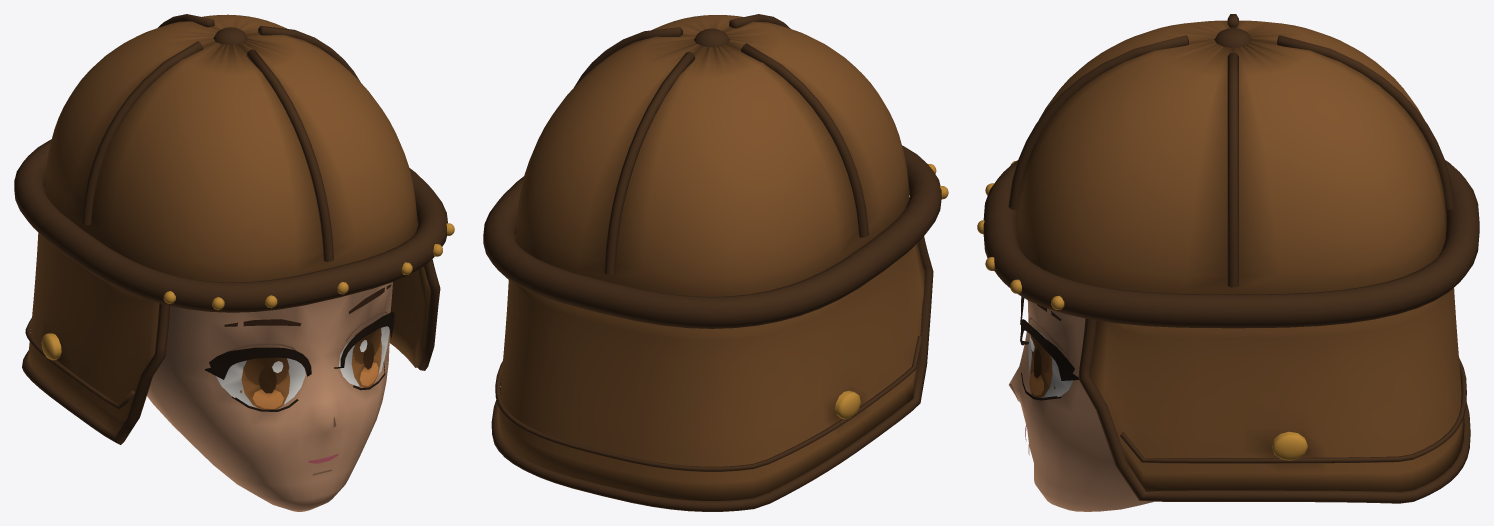
Rendered from h_cap_f.glb.
The picture shows the model from 3 angles, left to right: view 1: azimuth 30°, elevation 25°; view 2: azimuth 150°, elevation 25°; view 3: azimuth 270°, elevation 25°; orthographic projection. The views are drawn at different scales.
Visible parts, largest first — view 1: Cap, HeadMesh, LashR, EyeWhiteR, LashL, EyeIrisDarkR, EyeWhiteL, EyeIrisR; view 2: Cap; view 3: Cap, HeadMesh, LashL, EyeWhiteL.
Boxes of the visible parts, left/top/right/bottom form: Cap: left=14, top=14, right=454, bottom=444; HeadMesh: left=147, top=282, right=392, bottom=511; LashR: left=205, top=347, right=311, bottom=411; EyeWhiteR: left=216, top=358, right=305, bottom=407; LashL: left=334, top=311, right=394, bottom=390; EyeIrisDarkR: left=243, top=357, right=289, bottom=385; EyeWhiteL: left=339, top=326, right=389, bottom=386; EyeIrisR: left=241, top=369, right=289, bottom=409; Cap: left=483, top=14, right=948, bottom=511; Cap: left=977, top=14, right=1479, bottom=503; HeadMesh: left=1009, top=300, right=1154, bottom=511; LashL: left=1020, top=319, right=1078, bottom=400; EyeWhiteL: left=1028, top=326, right=1073, bottom=397.
Size of the model in its own units: 0.2381 by 0.2887 by 0.2774.
